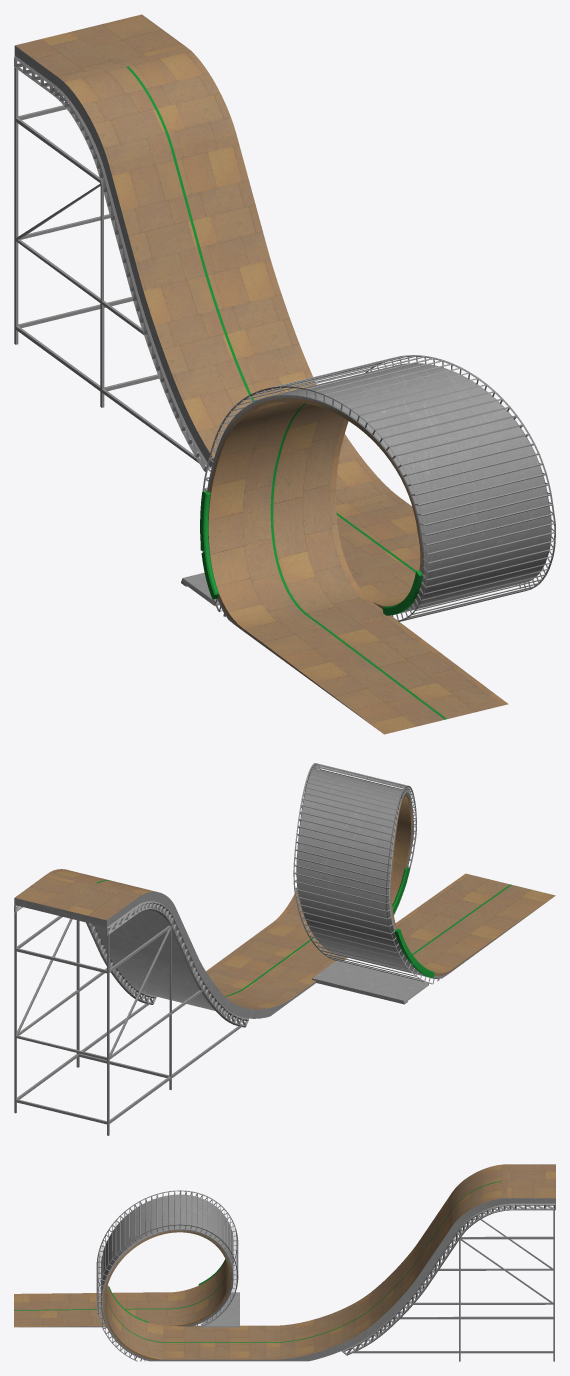
Rendered from LoopRamp.fbx.
The picture shows the model from 3 angles, top to bottom: view 1: azimuth 30°, elevation 25°; view 2: azimuth 150°, elevation 25°; view 3: azimuth 270°, elevation 25°; orthographic projection. The views are drawn at different scales.
Parts seen in each view (by area): view 1: Plane; view 2: Plane; view 3: Plane.
Boxes of the visible parts, bbox=[...] form: Plane: bbox=[14, 14, 555, 734]; Plane: bbox=[14, 763, 555, 1135]; Plane: bbox=[14, 1164, 555, 1361].
Bounding box in the file's own units: 722 × 805 × 2424.
Materials: 3 (3 with a texture image).
